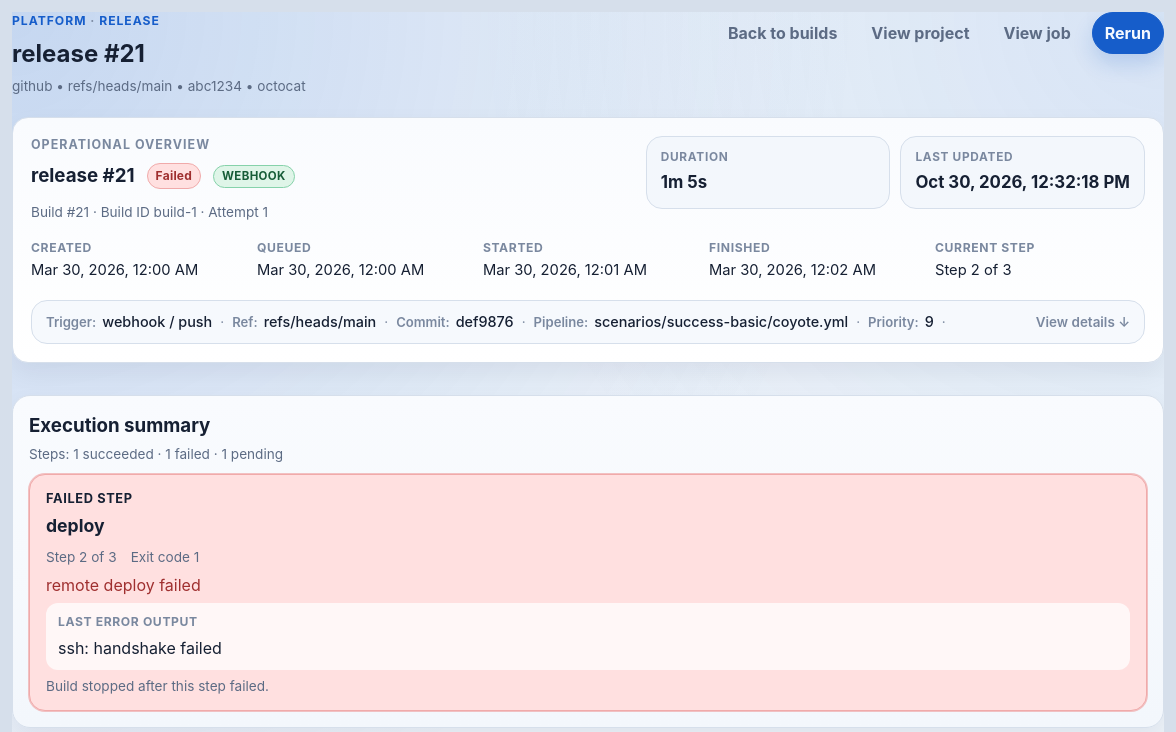
Test: BuildDetailPage › disables the rerun control while the new build is being created
The width and height of the screenshot is (1176, 732).
What coordinates should you click on to do the following:
click the button "Rerun"
I would click on:
 (1128, 33)
Its box is [1092,12,1164,54].
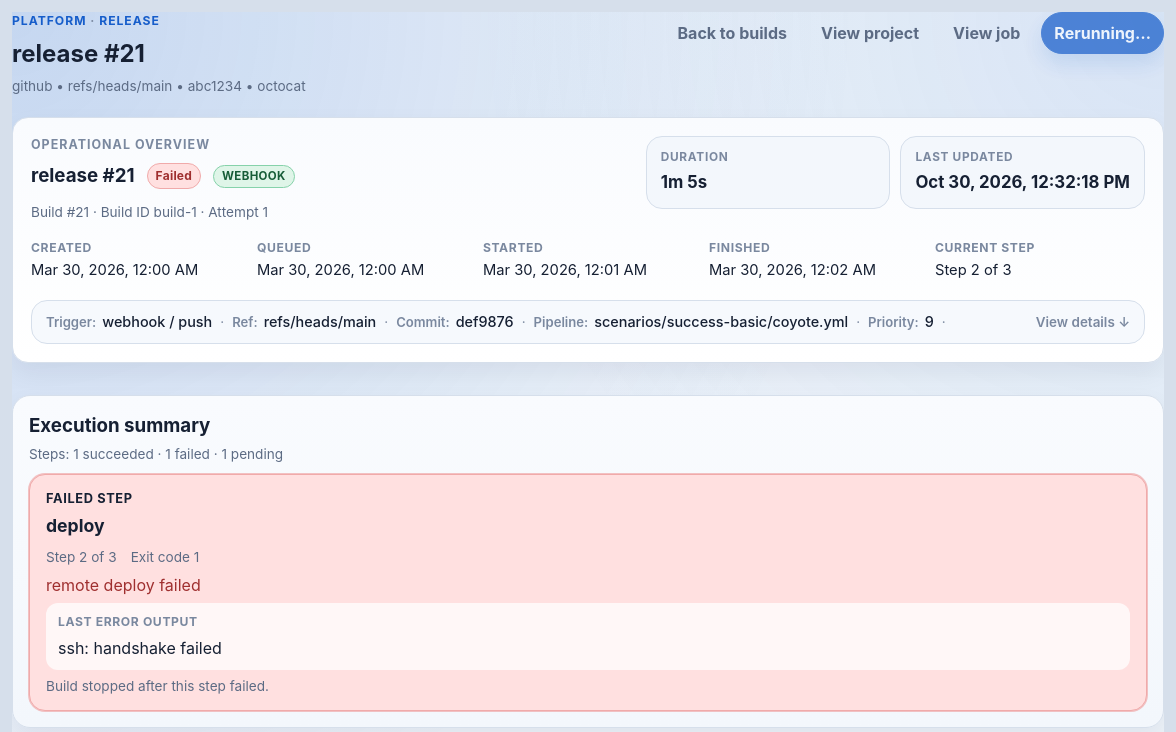
Expected: the button "Rerunning…" is disabled, [1041,12,1164,54]
